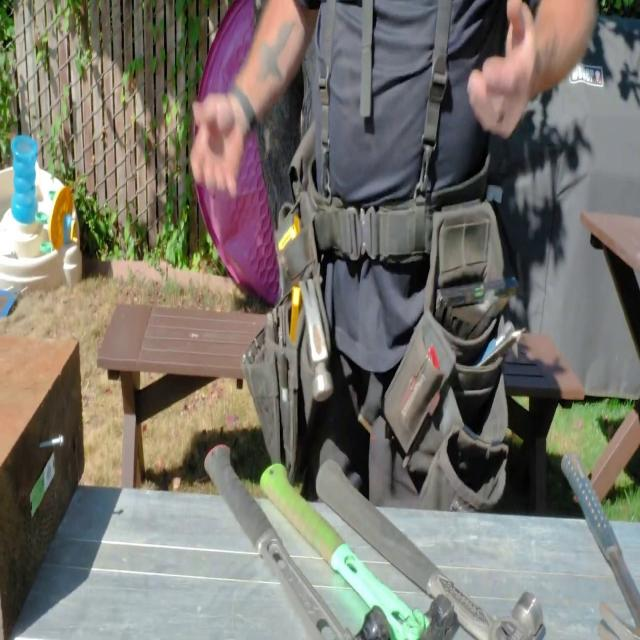hammer: (317, 458, 542, 640), (205, 442, 391, 640), (260, 463, 456, 640), (298, 277, 334, 402)
